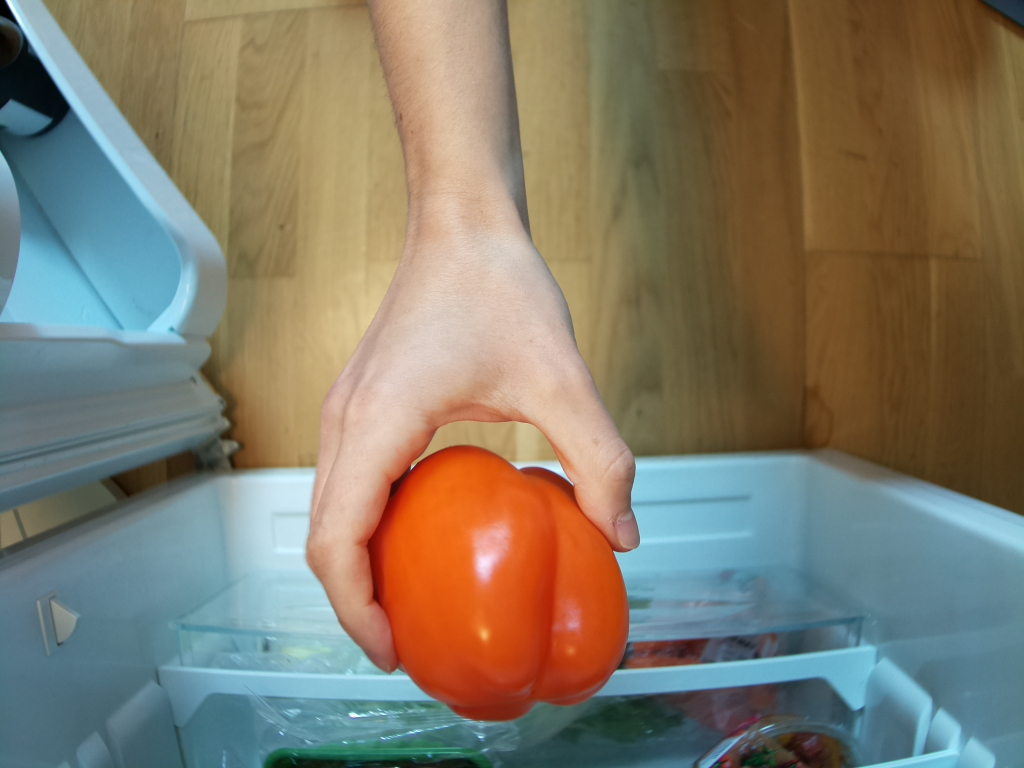pepper: (372, 445, 634, 720)
